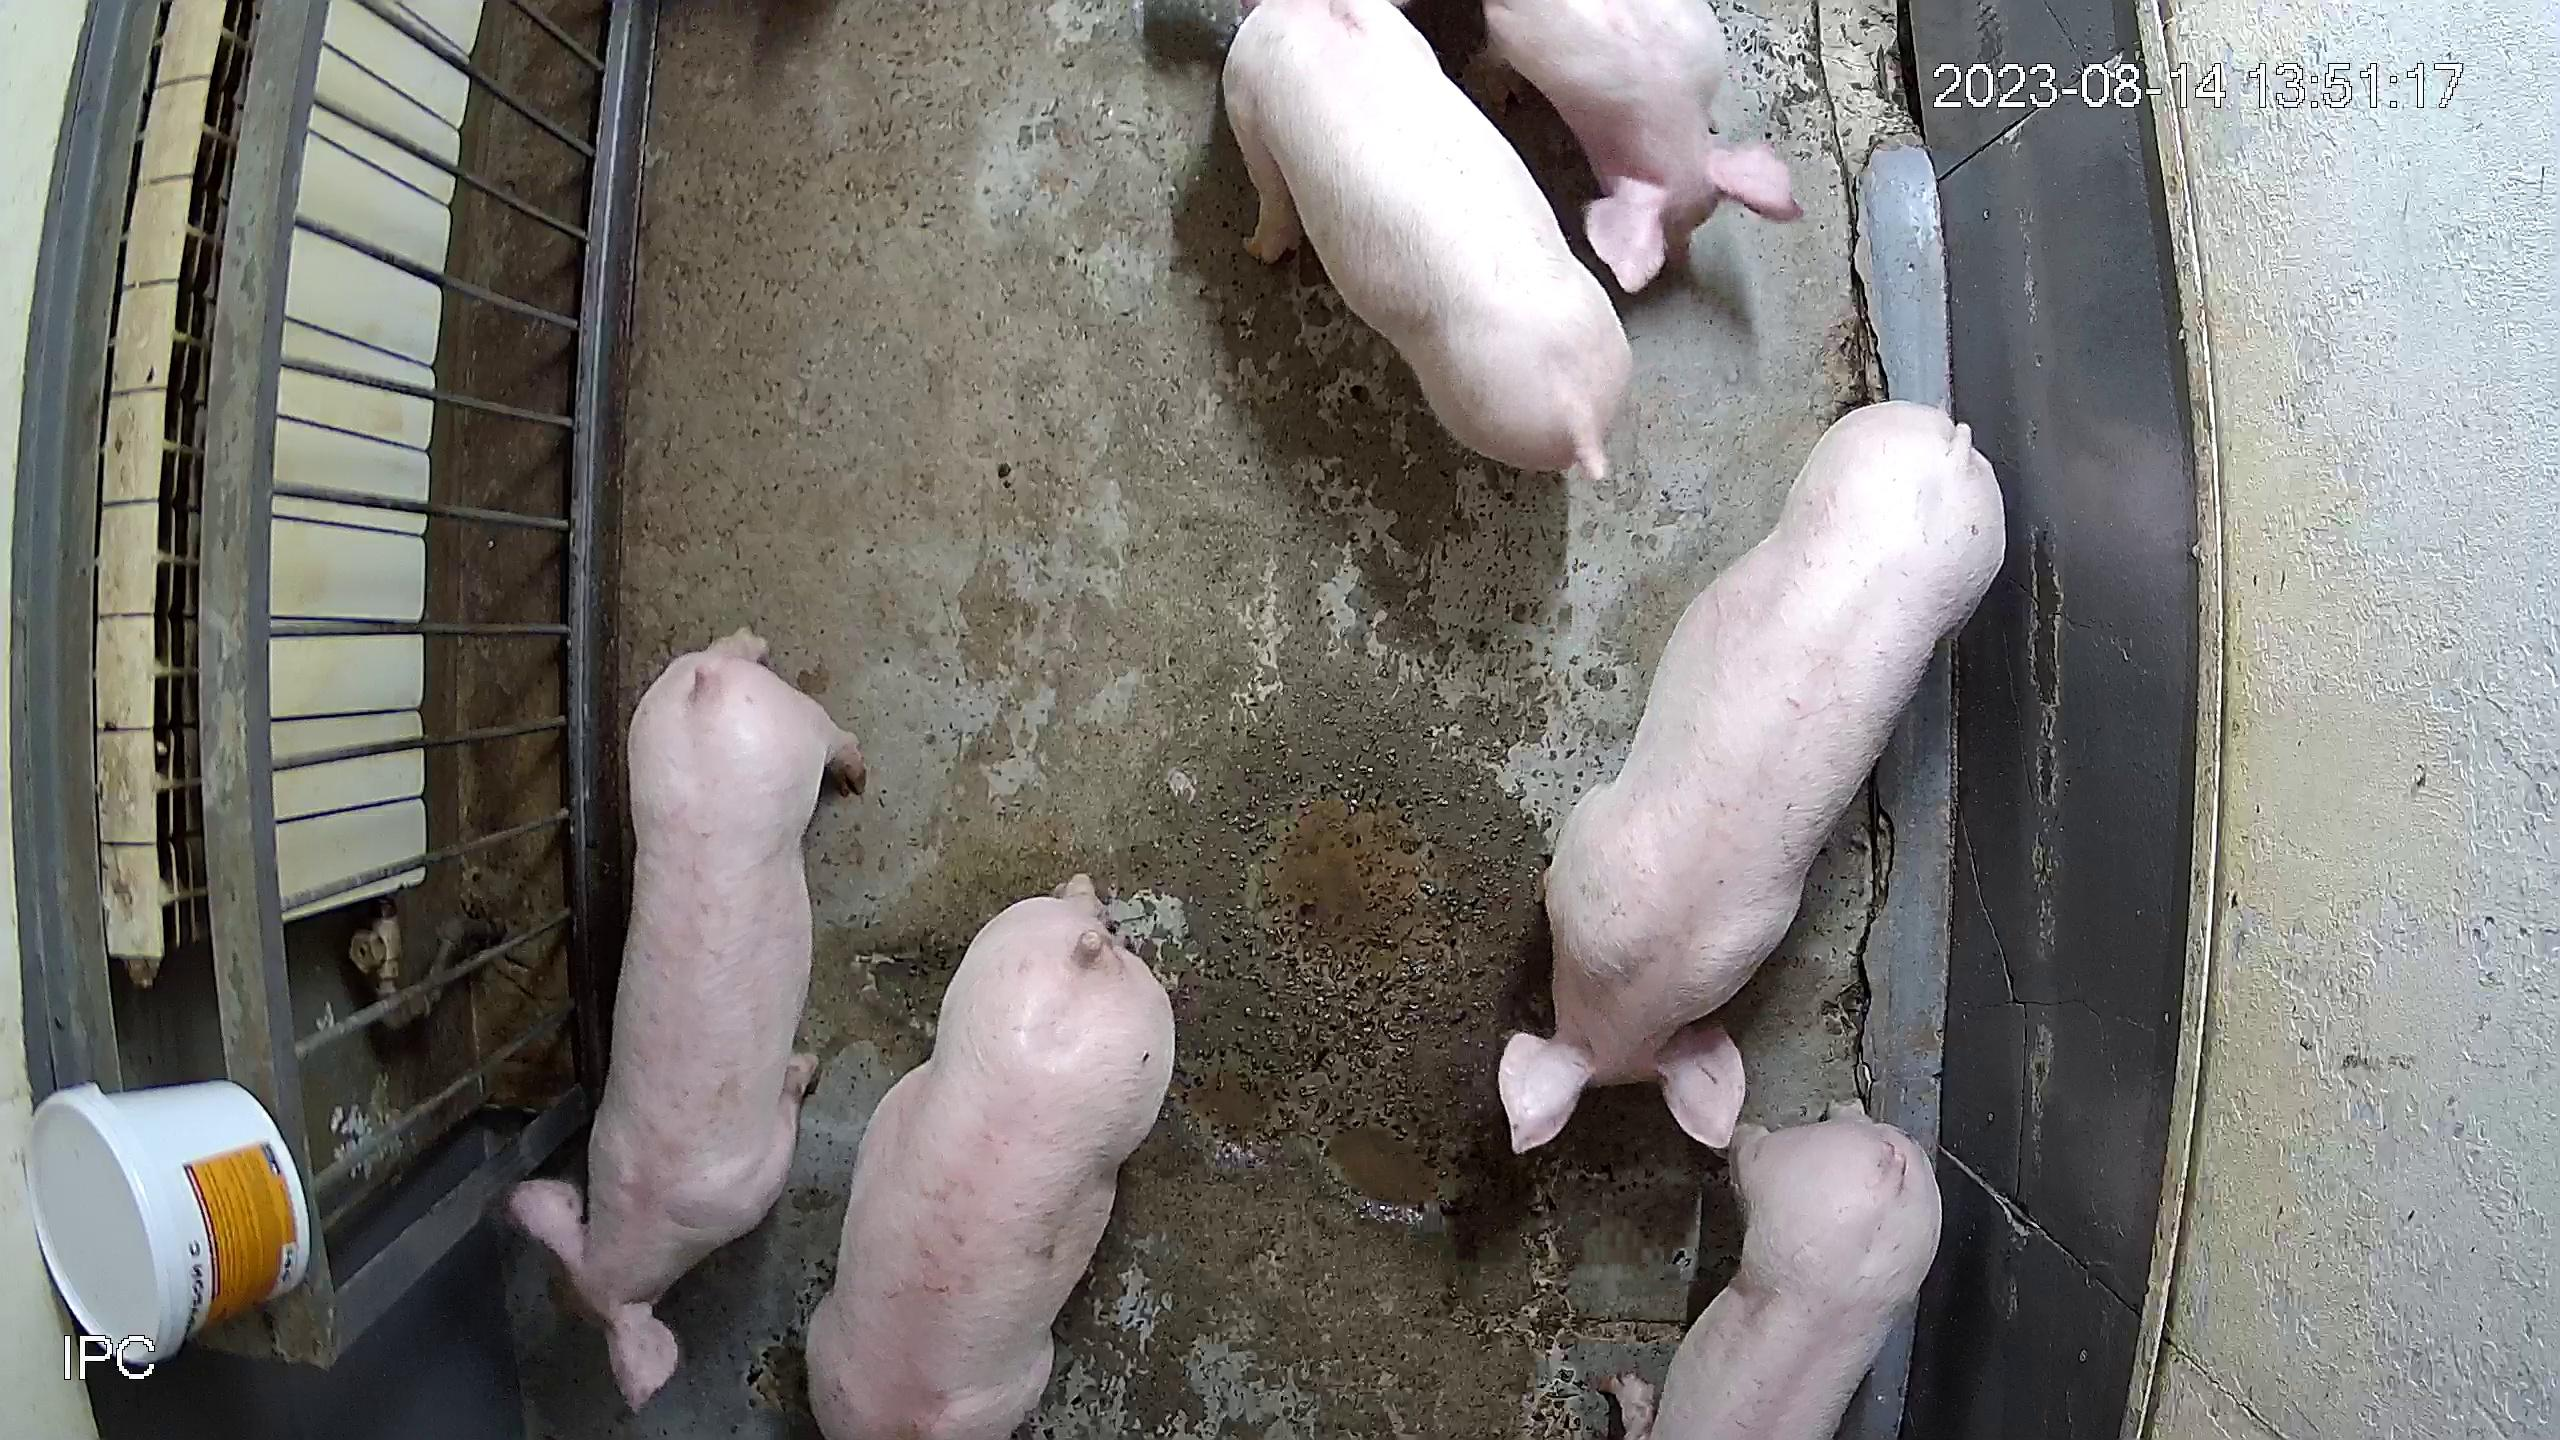Pig: (1503, 401, 2008, 1148), (524, 629, 863, 1363), (805, 874, 1175, 1440), (1224, 0, 1633, 476), (1653, 1116, 1945, 1440), (1486, 0, 1804, 288)
